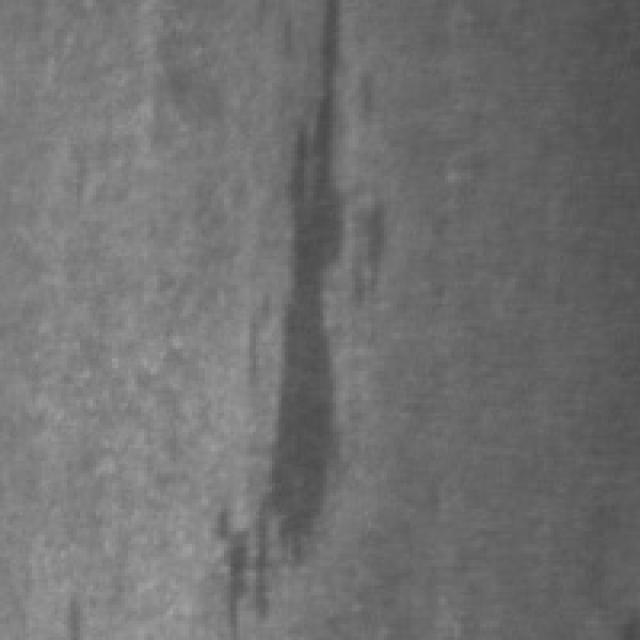inclusion: (202, 0, 342, 627)
